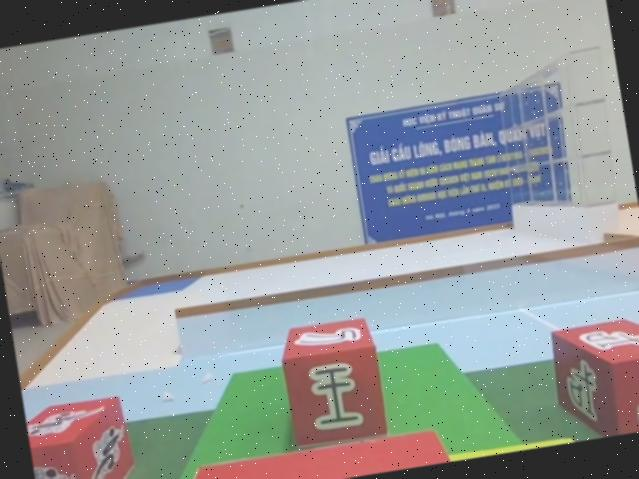R1: (22, 391, 142, 479)
R2 Fake: (273, 311, 394, 453)
R2 Real: (542, 310, 639, 443)
